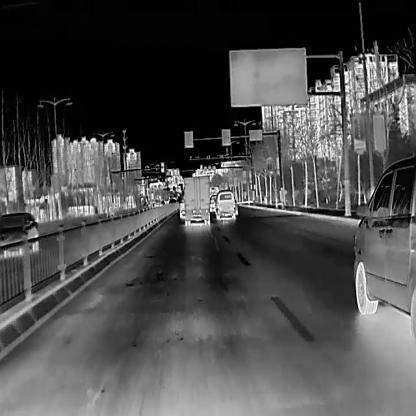car: (352, 156, 415, 343), (0, 212, 38, 261), (182, 174, 209, 225), (215, 188, 235, 220), (209, 195, 217, 211), (179, 199, 185, 219), (154, 200, 163, 208)
